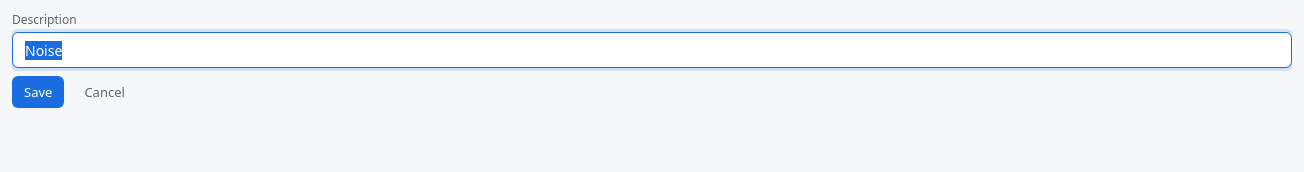
OrderInlineField › keeps the editor open and shows the error when saving fails
Type "!" into the field named "Description". click: (652, 50)
box: [12,32,1292,68]
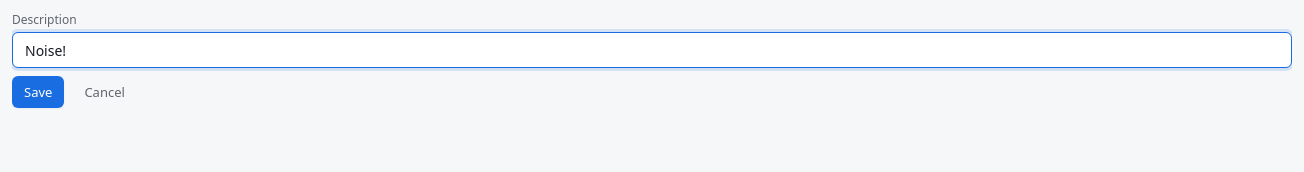
Click the button "Save". click: (38, 92)
box: [12,76,64,108]
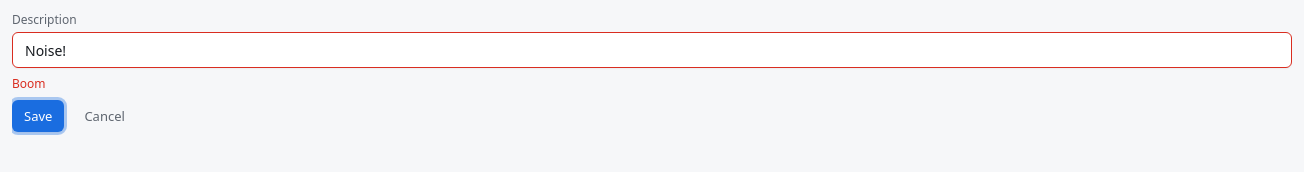
Check: the field named "Description" is shown, box [12,32,1292,68]
Check: the message reads "Boom", box [12,75,46,92]
